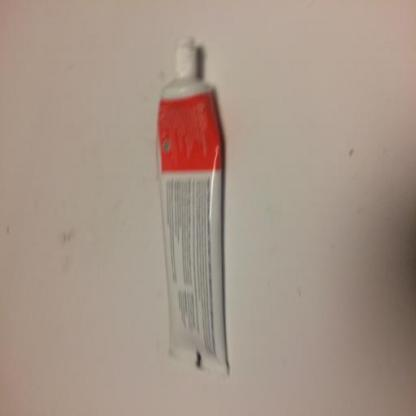trash: (150, 34, 233, 382)
